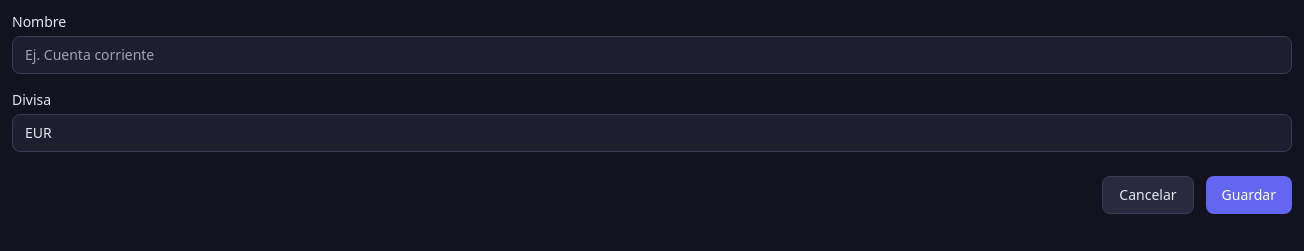
it: AccountForm › shows validation errors when submitted empty
The image size is (1304, 251).
Click the button "Guardar" at (1249, 195), box [1206,176,1292,214]
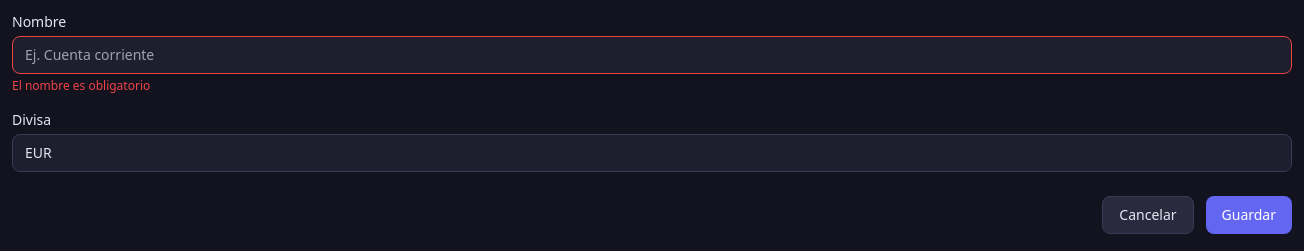
Expected: the text "El nombre es obligatorio" is shown, [12,77,150,94]
